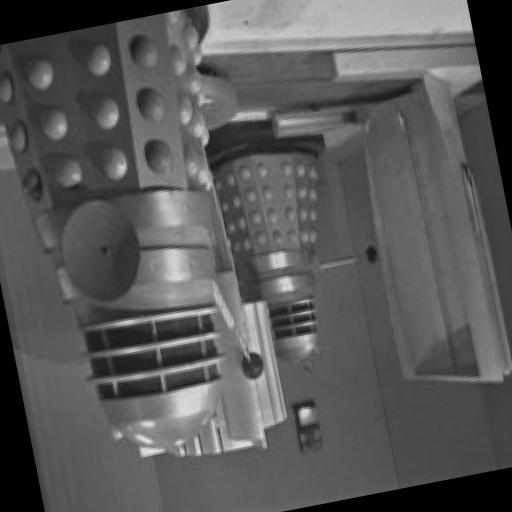dalek: (0, 4, 293, 470), (204, 96, 406, 386)
